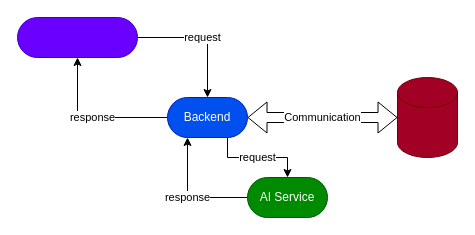
Some shapes in this 475 by 235 pixel diagram are drawn without their labels. Each missing label, with the centre of its shape:
Database: the point at 427,117
Frontend Client: the point at 77,37
